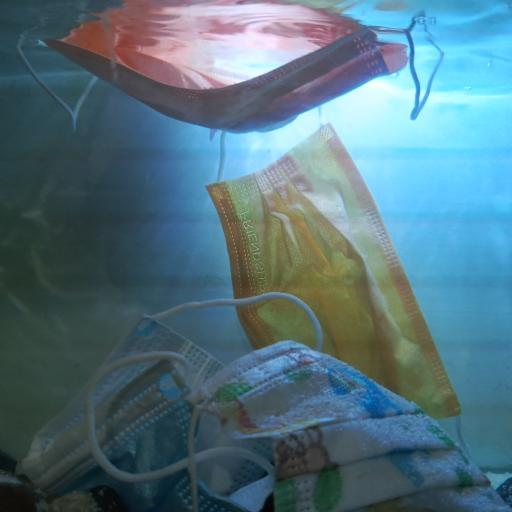mask: (204, 122, 462, 422), (20, 291, 326, 512), (185, 338, 512, 512), (16, 28, 444, 135)
